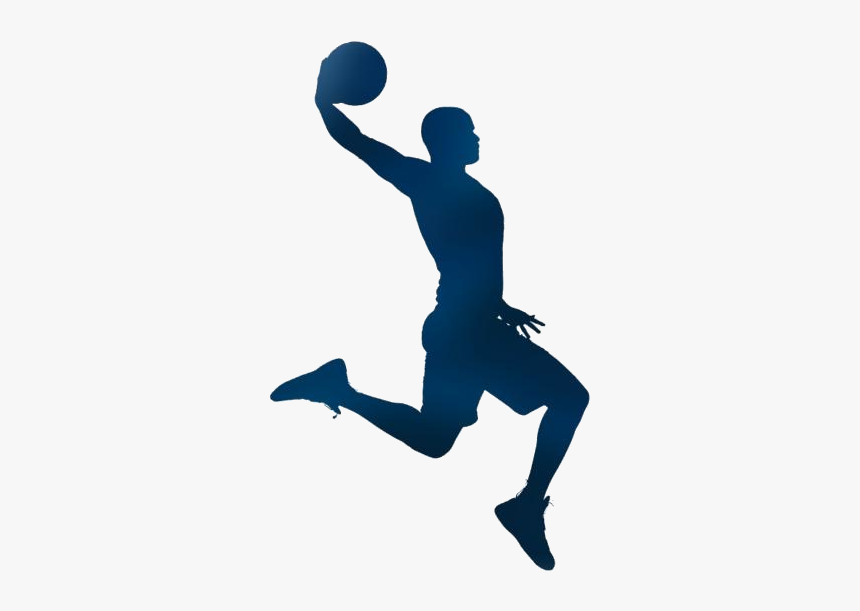b_ball: (307, 23, 398, 112)
face: (412, 95, 493, 165)
player: (277, 33, 605, 567)
